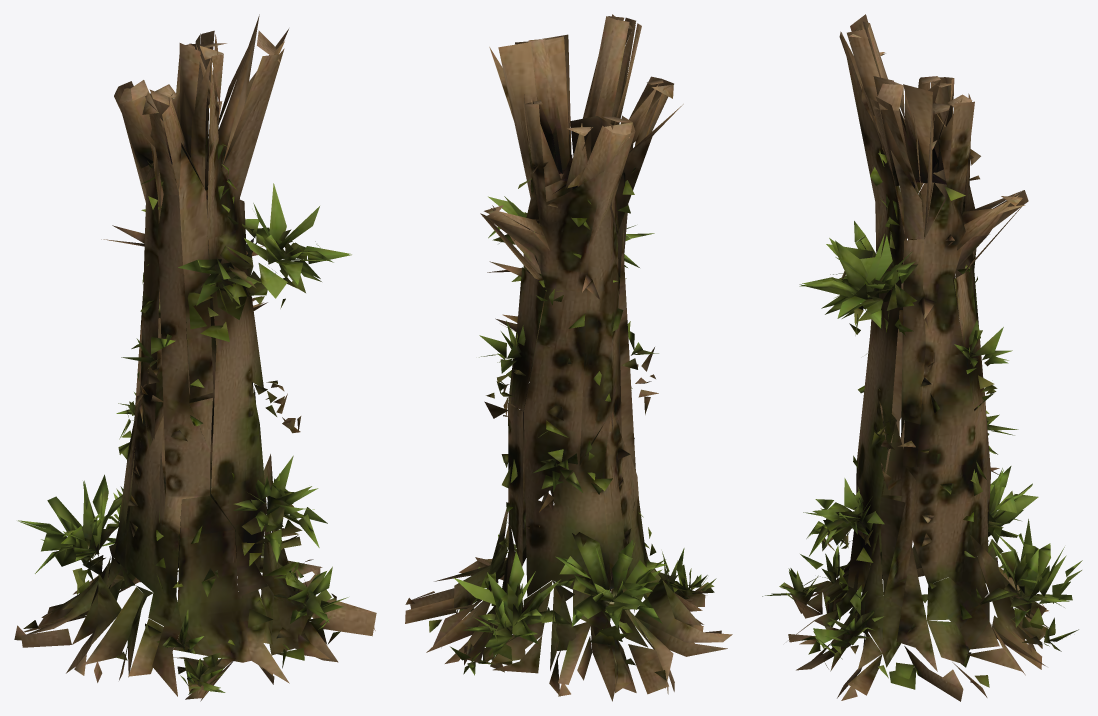
File: jun_mossy_dead_tree_LOD3.glb
The picture shows the model from 3 angles, left to right: view 1: azimuth 30°, elevation 25°; view 2: azimuth 150°, elevation 25°; view 3: azimuth 270°, elevation 25°; orthographic projection. The views are drawn at different scales.
Parts seen in each view (by area): view 1: tripo_node_c5806132-b1b8-42ec-9b28-db49bdb041b3; view 2: tripo_node_c5806132-b1b8-42ec-9b28-db49bdb041b3; view 3: tripo_node_c5806132-b1b8-42ec-9b28-db49bdb041b3.
Part boxes in pixels (box(x1,y1,x2,y2)): tripo_node_c5806132-b1b8-42ec-9b28-db49bdb041b3: box(14, 14, 376, 701); tripo_node_c5806132-b1b8-42ec-9b28-db49bdb041b3: box(405, 14, 732, 701); tripo_node_c5806132-b1b8-42ec-9b28-db49bdb041b3: box(762, 14, 1082, 701).
Bounding box in the file's own units: 0.4885 × 1.01 × 0.4824.
1 material, 1 textured.
